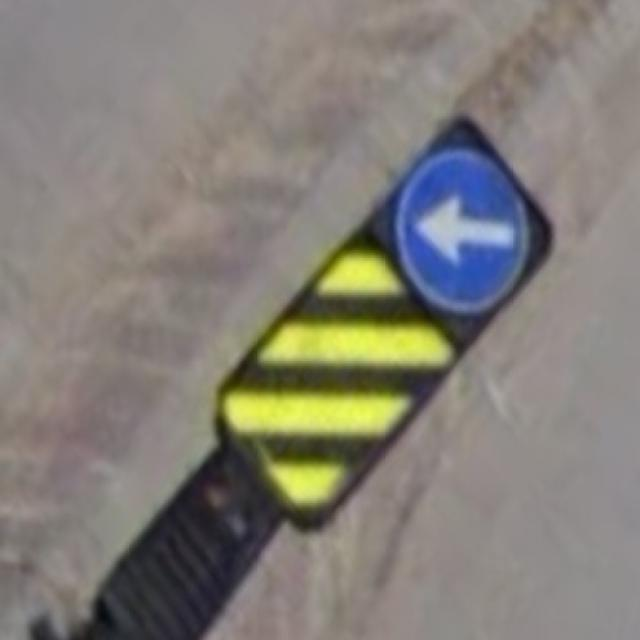Turn Left: (401, 157, 527, 307)
